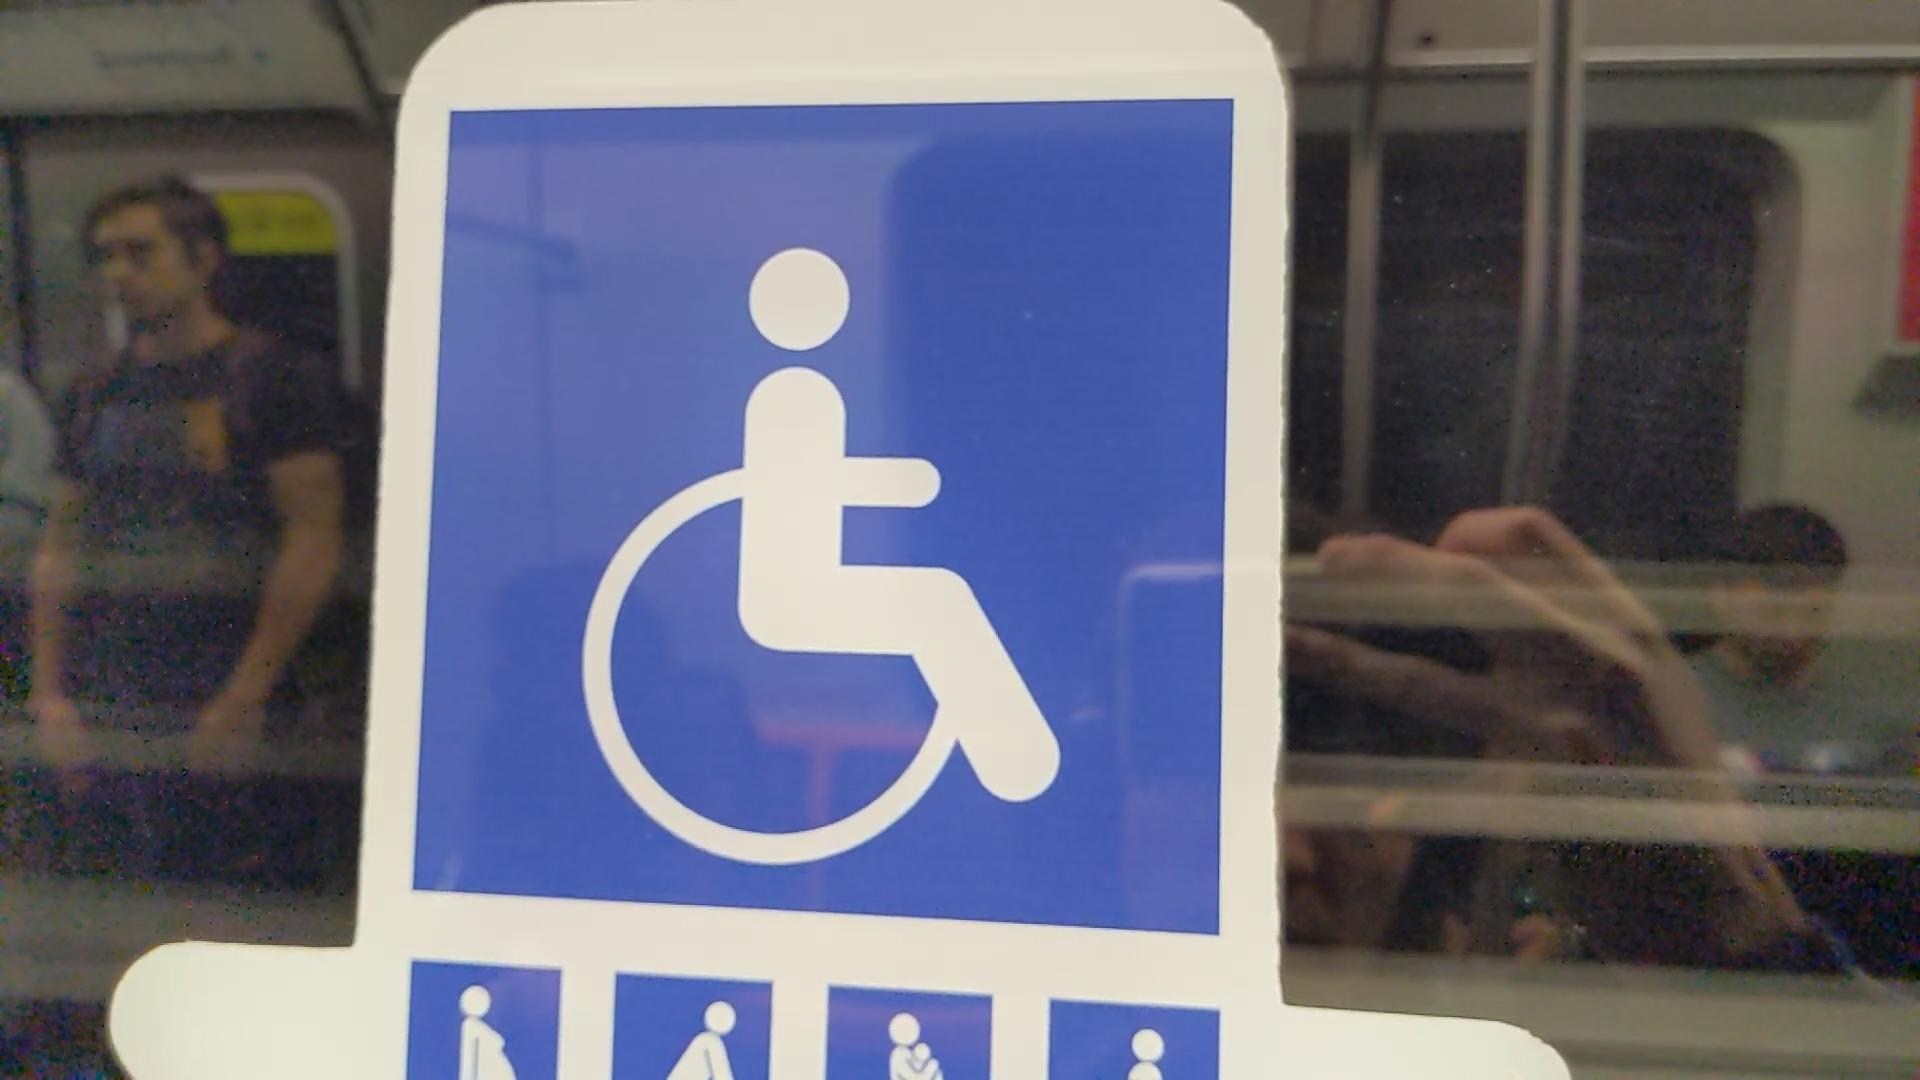handicapped symbol: (578, 240, 1068, 872)
